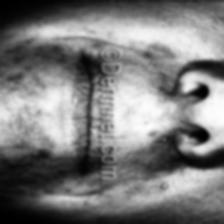Non-Cancerous Skin Condition: (1, 37, 68, 196), (133, 39, 203, 191)
